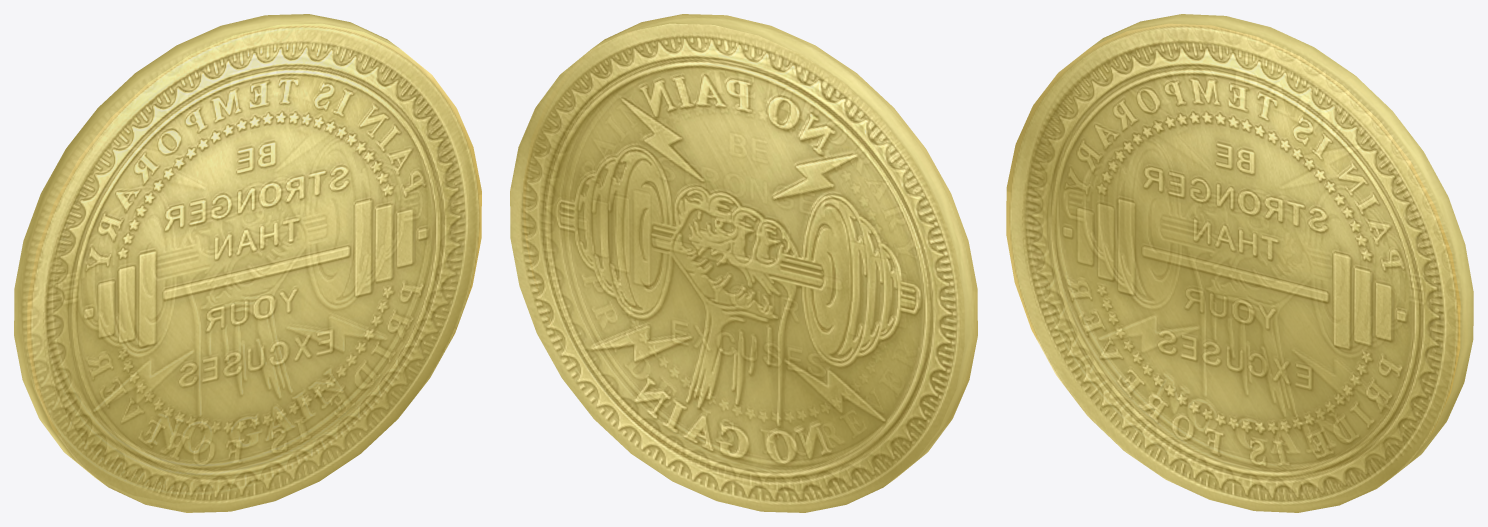
File: CoinNoPain.glb
The picture shows the model from 3 angles, left to right: view 1: azimuth 30°, elevation 25°; view 2: azimuth 150°, elevation 25°; view 3: azimuth 330°, elevation 25°; orthographic projection.
Visible parts, largest first — view 1: CoinNoPain; view 2: CoinNoPain; view 3: CoinNoPain.
Boxes of the visible parts, x1,y1,x2,y2 form: CoinNoPain: (14, 14, 481, 512); CoinNoPain: (510, 14, 977, 512); CoinNoPain: (1006, 14, 1473, 512).
Bounding box in the file's own units: 0.0996 × 0.0996 × 0.005.
Materials: 1 (1 with a texture image).
